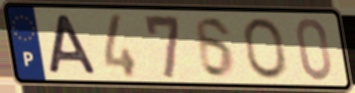0: (294, 17, 334, 83)
4: (102, 10, 140, 80)
6: (192, 16, 238, 79)
7: (141, 11, 185, 81)
A: (47, 13, 101, 76)
O: (241, 16, 290, 81)
